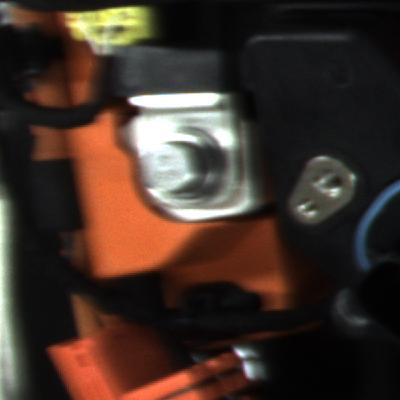nut_b: (135, 132, 235, 212)
